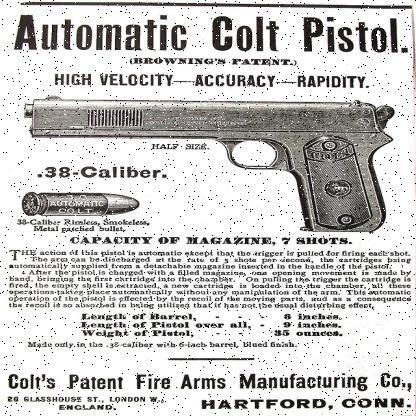pistol: (16, 90, 396, 239)
